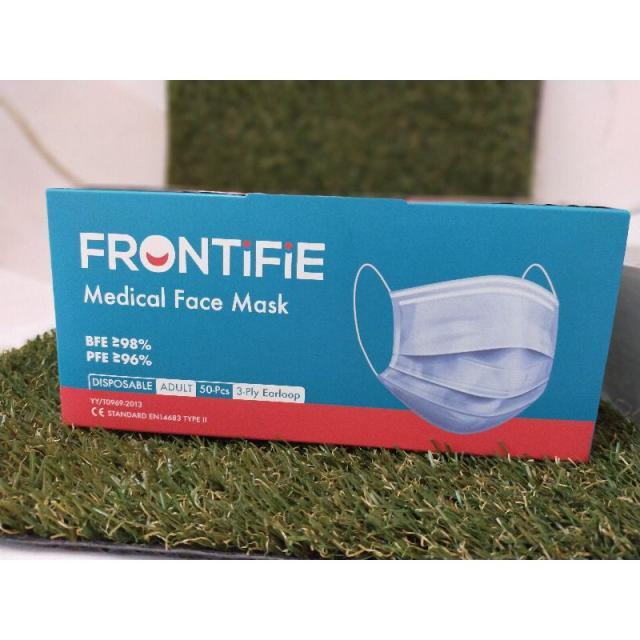face mask: (340, 248, 568, 431)
